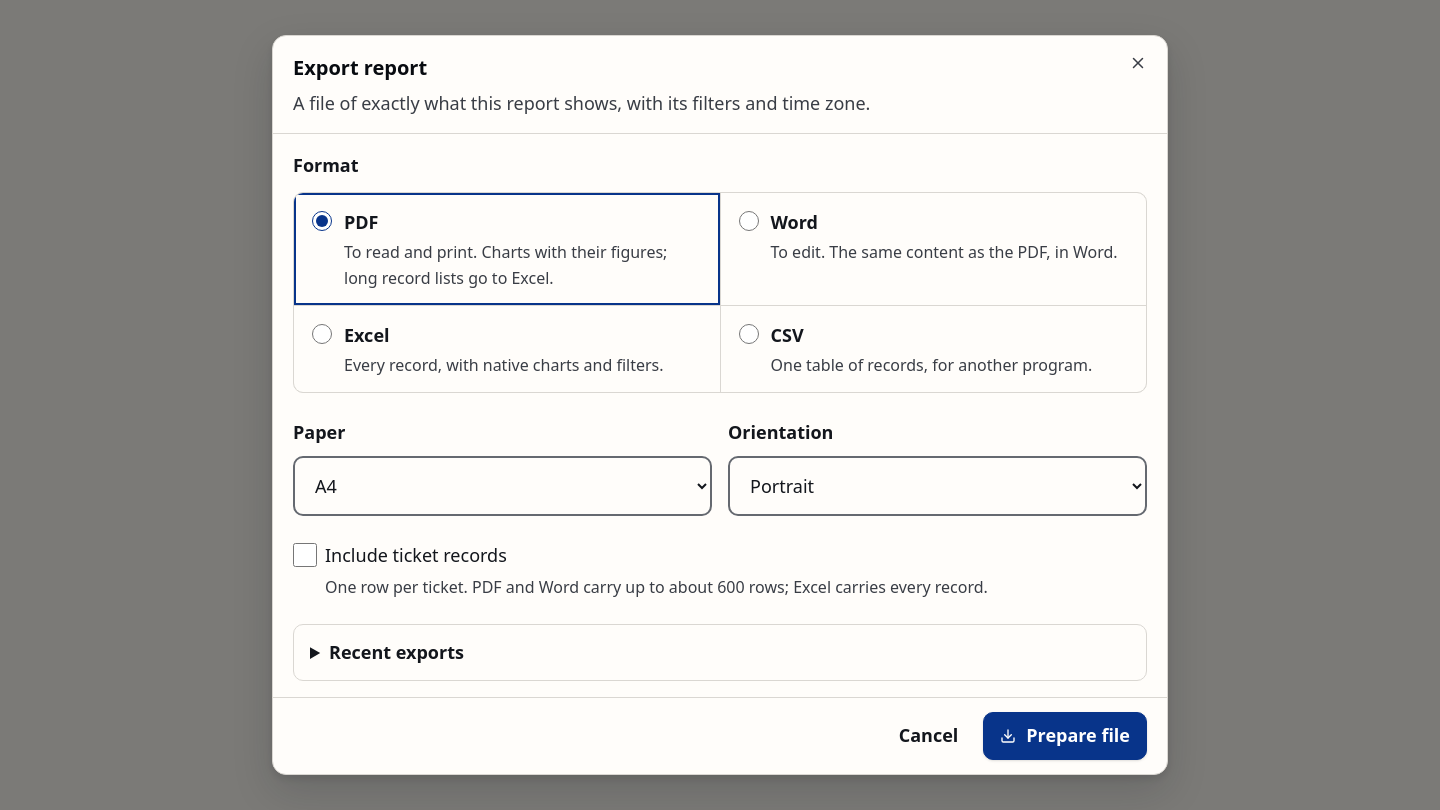
Test: ExportDialog › prepares the file with the report filters, then downloads it once when ready
Click the button "Prepare file": (1065, 736) [983,712,1147,760]
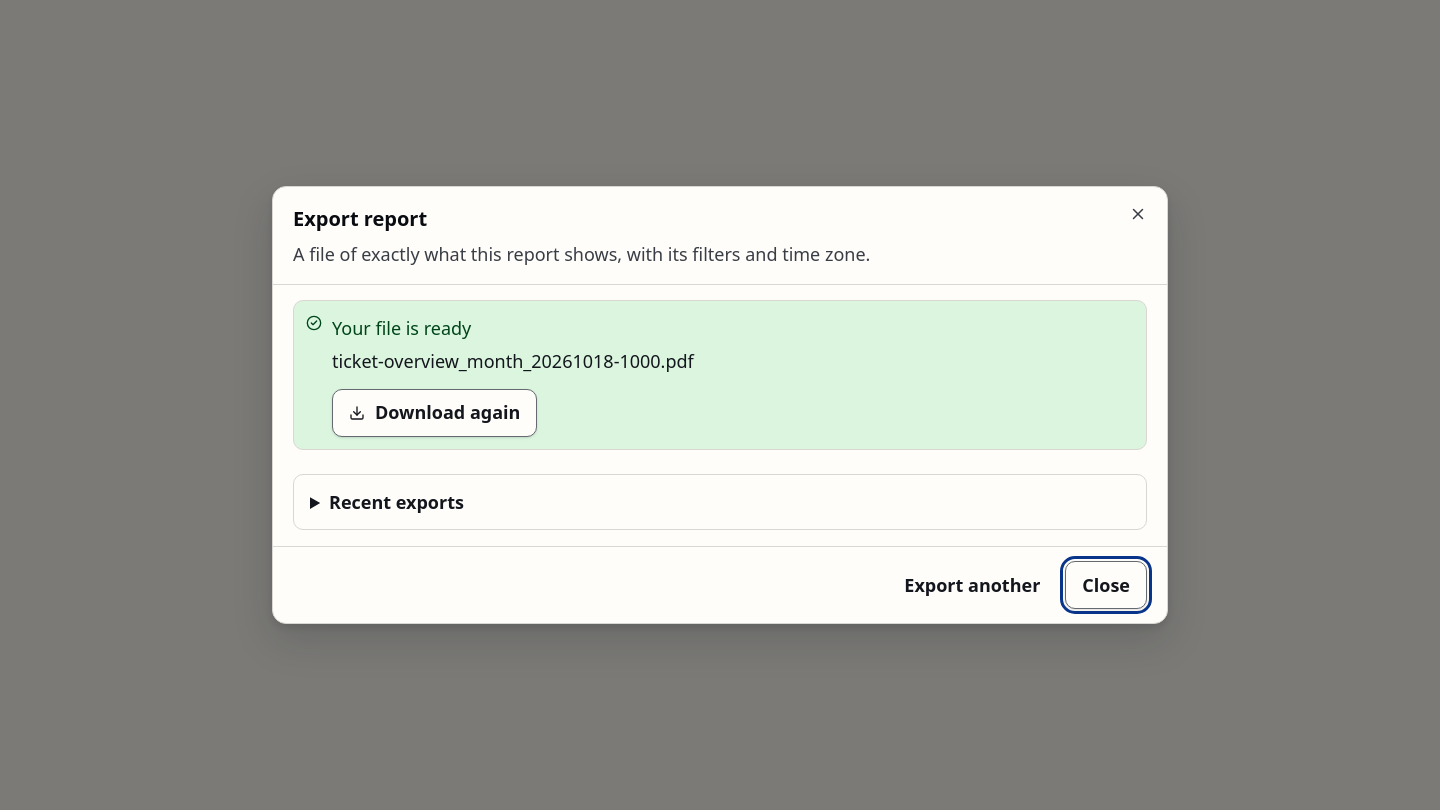
Expected: the text "Your file is ready" is shown, [332,316,471,340]
